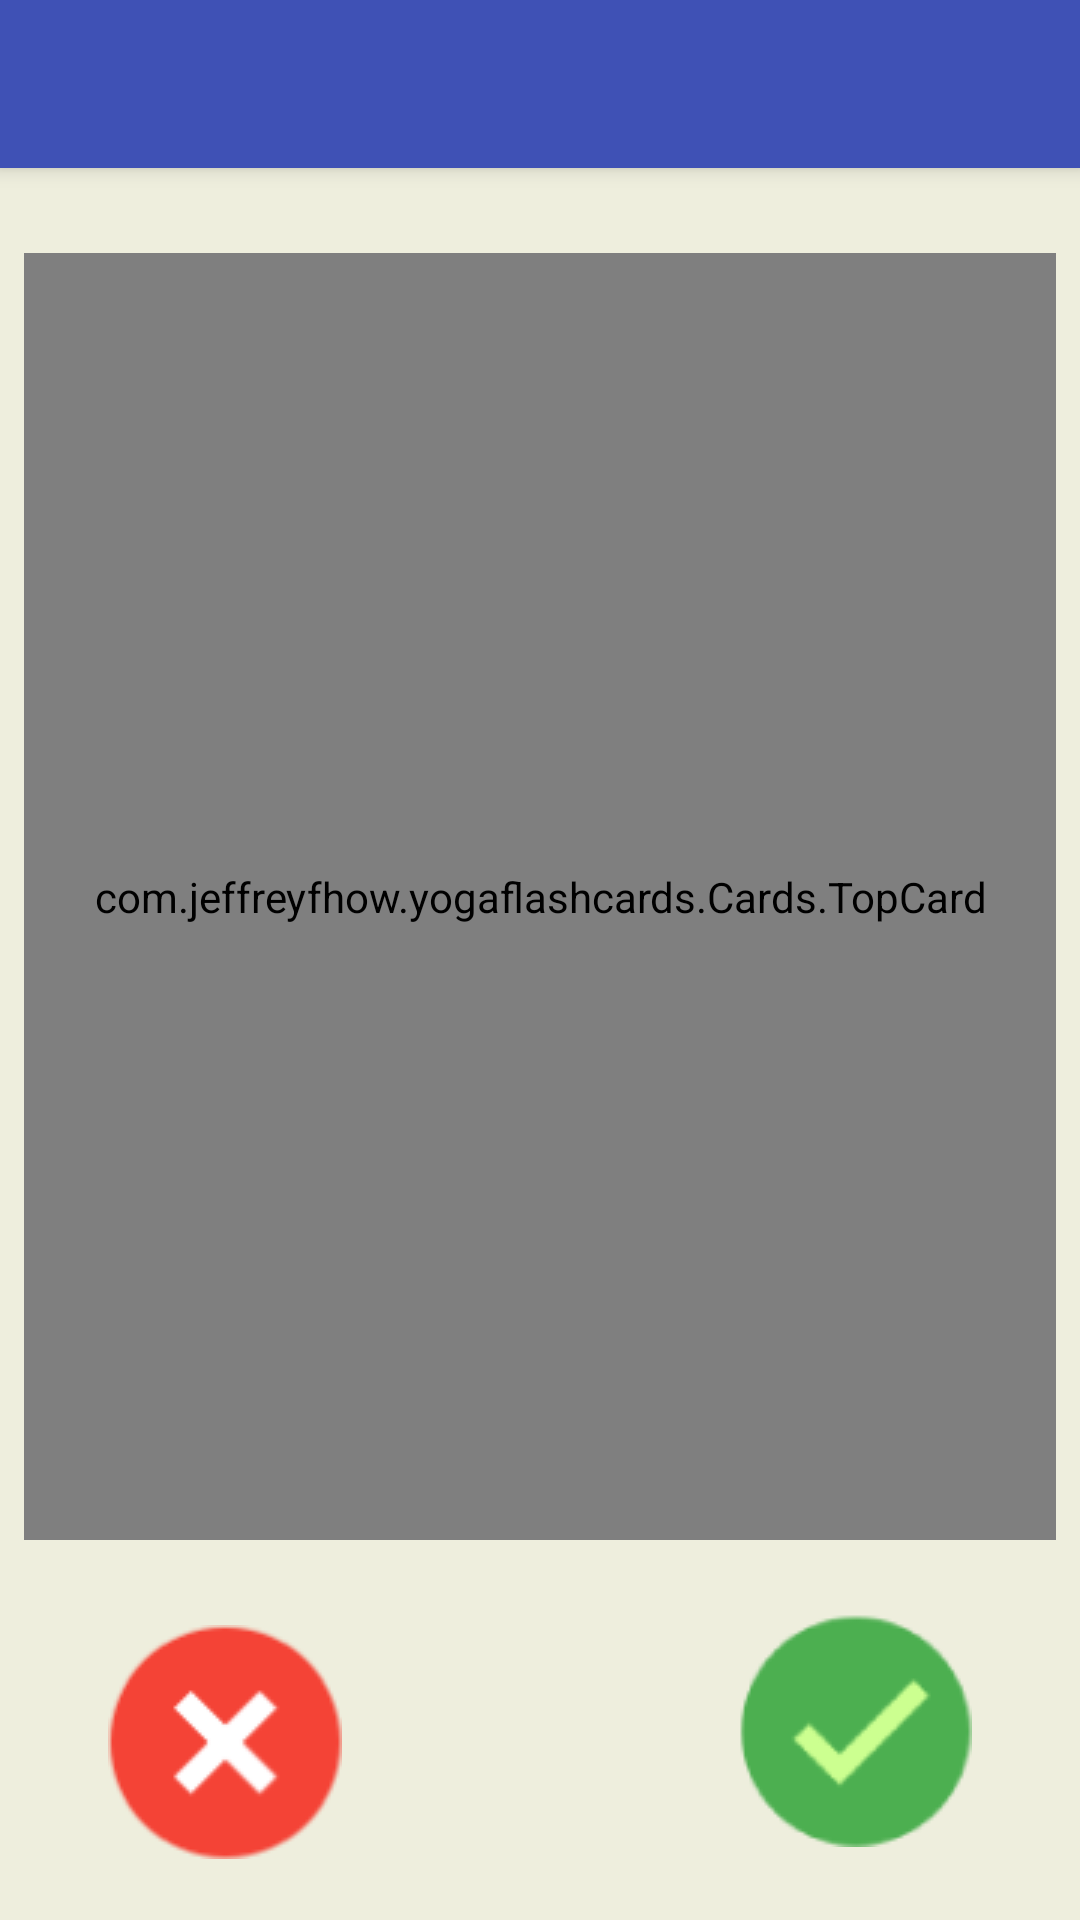

Icons on this 1080 × 1920 Android screen, each with the point to tap as point (x, y):
Correct Button: point (856, 1731)
Incorrect Button: point (225, 1742)
